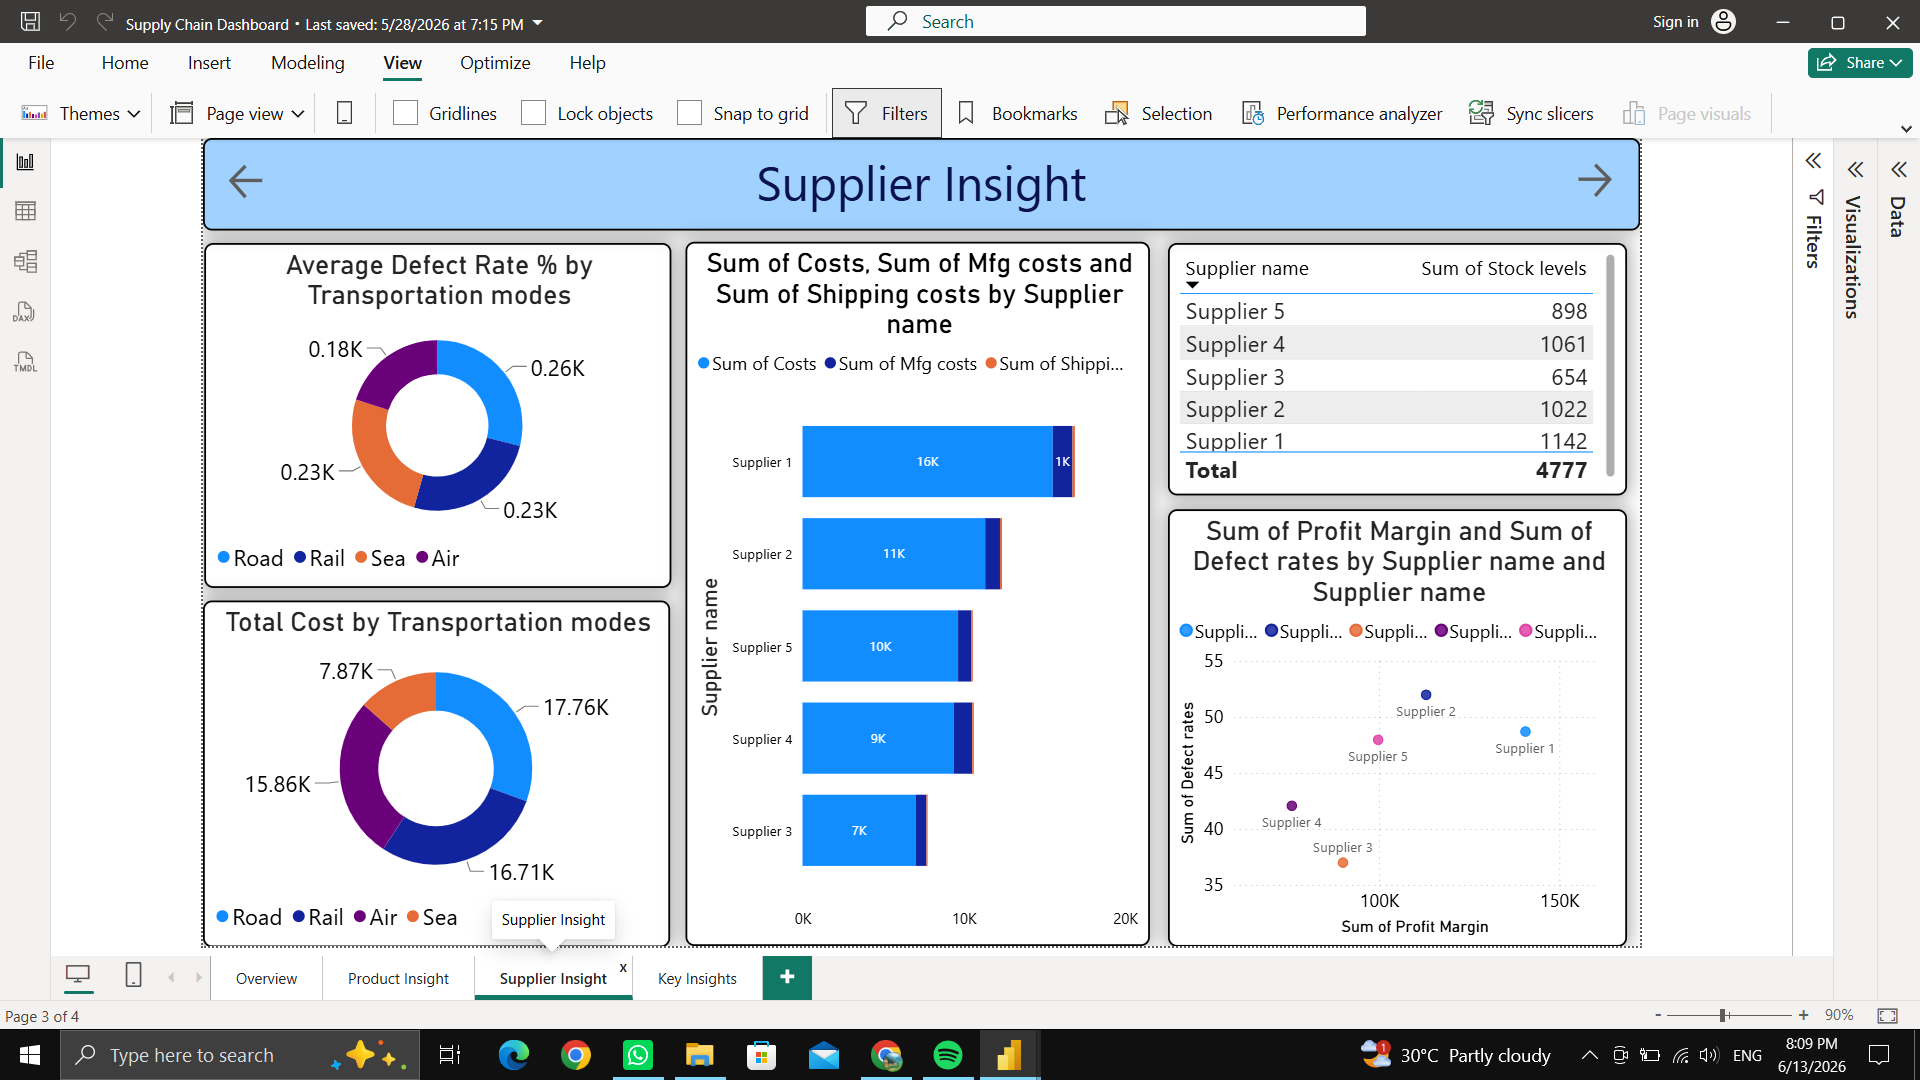

The dashboard page shown, as its layout file describes it:
{"tool":"powerbi","page":{"name":"Supplier Insight","canvas":[1280,720],"ordinal":2},"visuals":[{"type":"tableEx","fields":{"Values":["supply_chain_data.Supplier name","Sum(supply_chain_data.Stock levels)"]},"box":[859,93.3,408.9,225],"z":0},{"type":"scatterChart","fields":{"X":["Sum(supply_chain_data.Profit Margin)"],"Y":["Sum(supply_chain_data.Defect rates)"],"Category":["supply_chain_data.Supplier name"],"Series":["supply_chain_data.Supplier name"]},"box":[859,330.7,408.9,389.7],"z":1000},{"type":"donutChart","fields":{"Y":["supply_chain_data.Average Defect Rate %"],"Category":["supply_chain_data.Transportation modes"]},"box":[1.4,93.3,415.8,307.4],"z":2000},{"type":"donutChart","fields":{"Y":["supply_chain_data.Total Cost"],"Category":["supply_chain_data.Transportation modes"]},"box":[0,411.7,415.8,308.7],"z":3000},{"type":"textbox","box":[0,0,1280.3,82.3],"z":4000},{"type":"actionButton","box":[19.2,19.2,100.2,39.8],"z":6000},{"type":"actionButton","box":[1218.5,17.8,48,39.8],"z":7000},{"type":"barChart","fields":{"Y":["Sum(supply_chain_data.Costs)","Sum(supply_chain_data.Mfg costs)","Sum(supply_chain_data.Shipping costs)"],"Category":["supply_chain_data.Supplier name"]},"box":[429.5,92.9,413.8,627.3],"z":7001}]}

Visuals, with their boxes on the page's 1280x720 design canvas (x1, y1, x2, y2). These are canvas units, not pixel positions in the 1920x1080 screenshot, which may show the page scaled, cropped or inside an application window:
tableEx - supply_chain_data.Supplier name x Sum(supply_chain_data.Stock levels): <box>859,93,1268,318</box>
scatterChart - Sum(supply_chain_data.Profit Margin) x Sum(supply_chain_data.Defect rates): <box>859,331,1268,720</box>
donutChart - supply_chain_data.Average Defect Rate % x supply_chain_data.Transportation modes: <box>1,93,417,401</box>
donutChart - supply_chain_data.Total Cost x supply_chain_data.Transportation modes: <box>0,412,416,720</box>
textbox: <box>0,0,1280,82</box>
actionButton: <box>19,19,119,59</box>
actionButton: <box>1218,18,1266,58</box>
barChart - Sum(supply_chain_data.Costs) x Sum(supply_chain_data.Mfg costs): <box>430,93,843,720</box>
